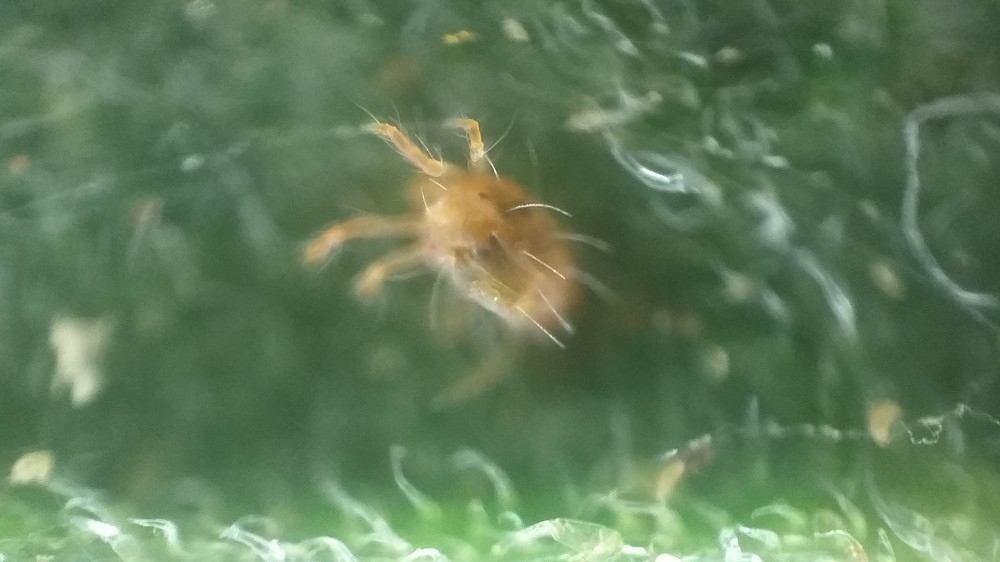Aracnido Rojo: (291, 100, 670, 401)
